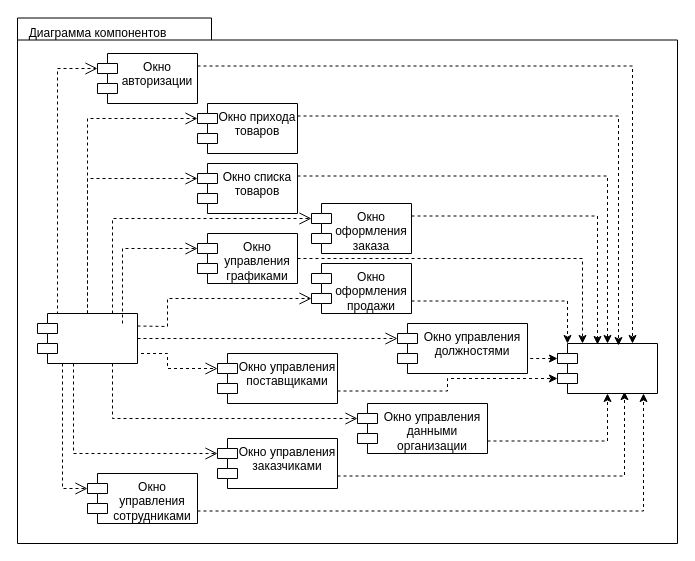
Image size: 695x561. Some labels were removed from this diagram. The shapes that lost their labels are listed below. From the top down, each one's centre as x and y in pixels, then its label:
At (87,338): "Главное окно программы".
At (607,368): "База данных".
